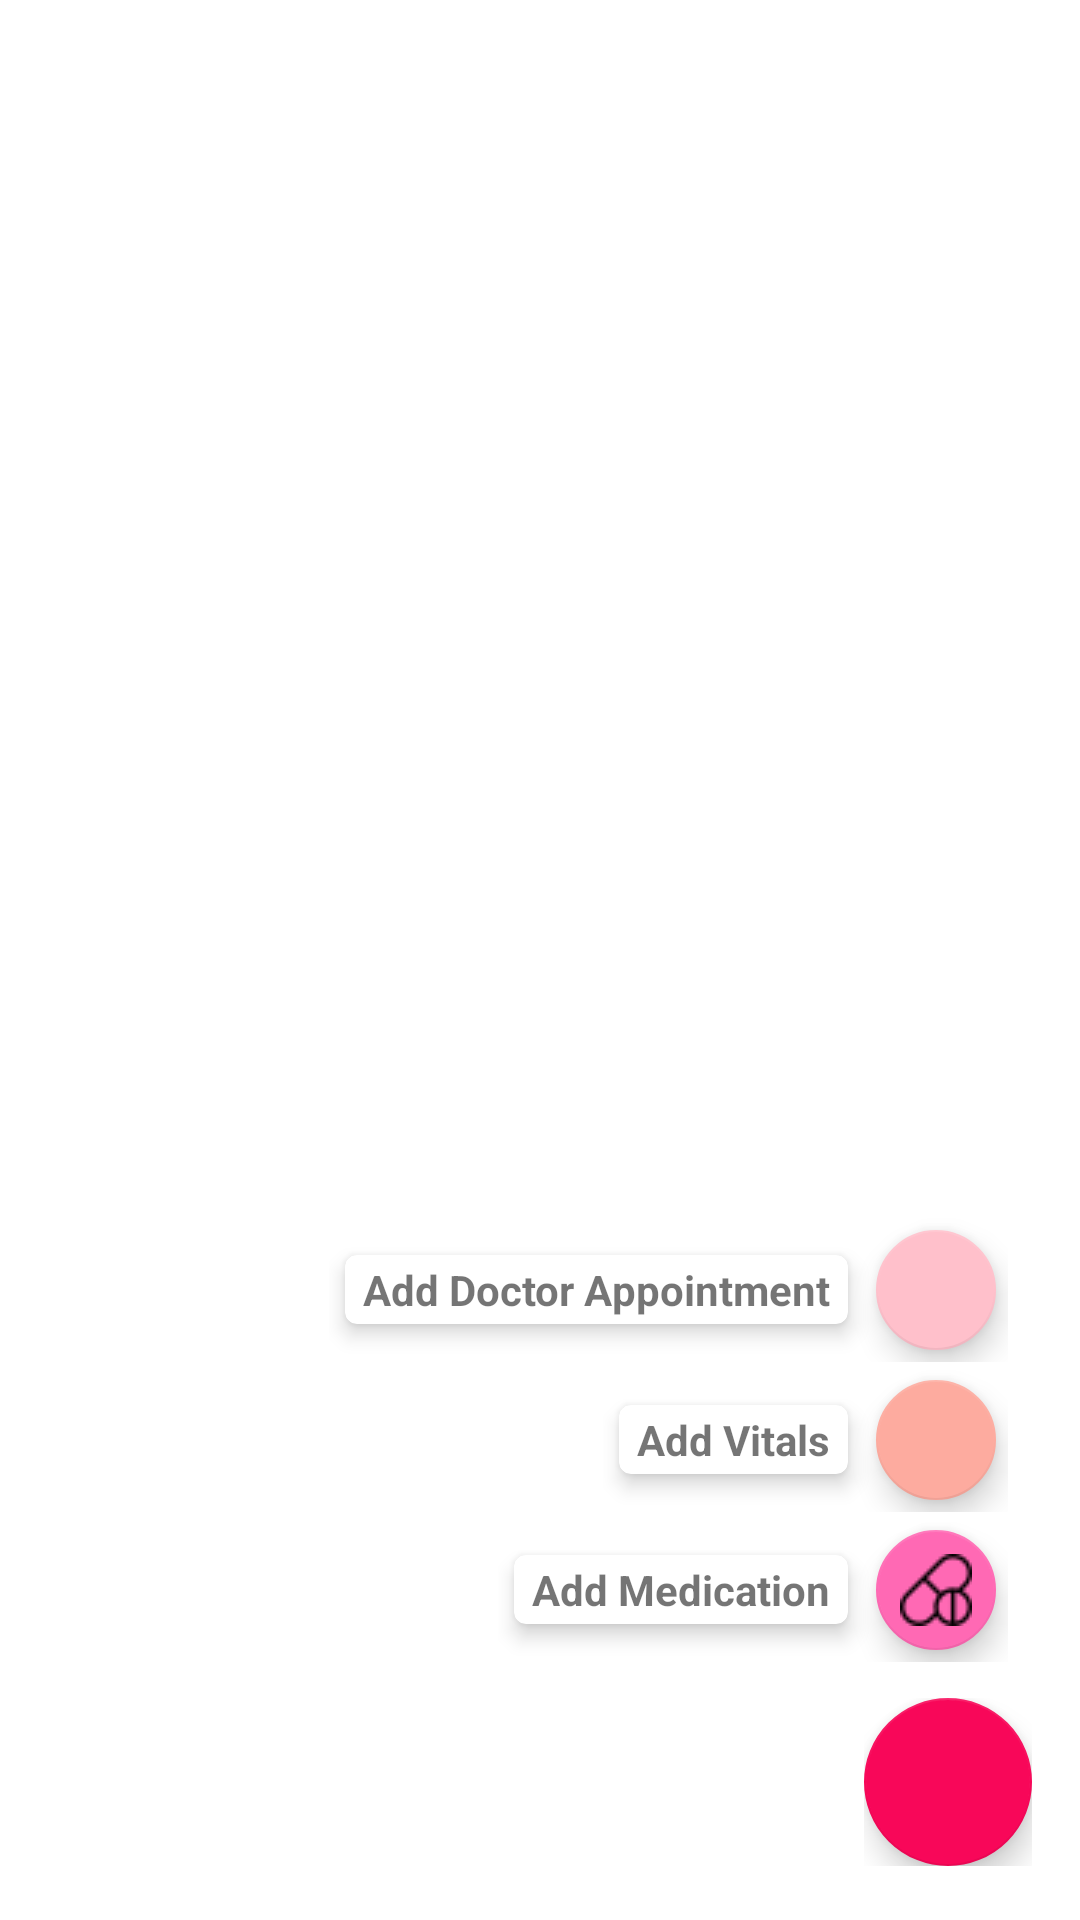

Where to tap for icons on this 1080*1920 app screen, as (x=x, y=y):
drugsone: (x=937, y=1596)
